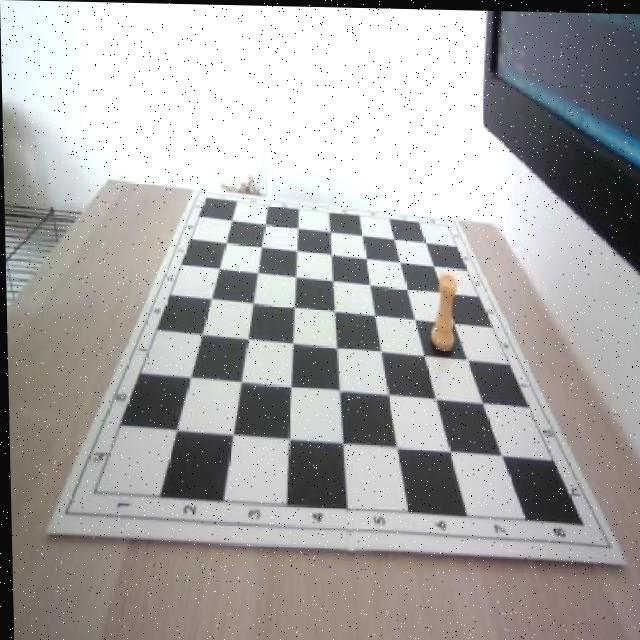white-queen: (428, 270, 458, 350)
